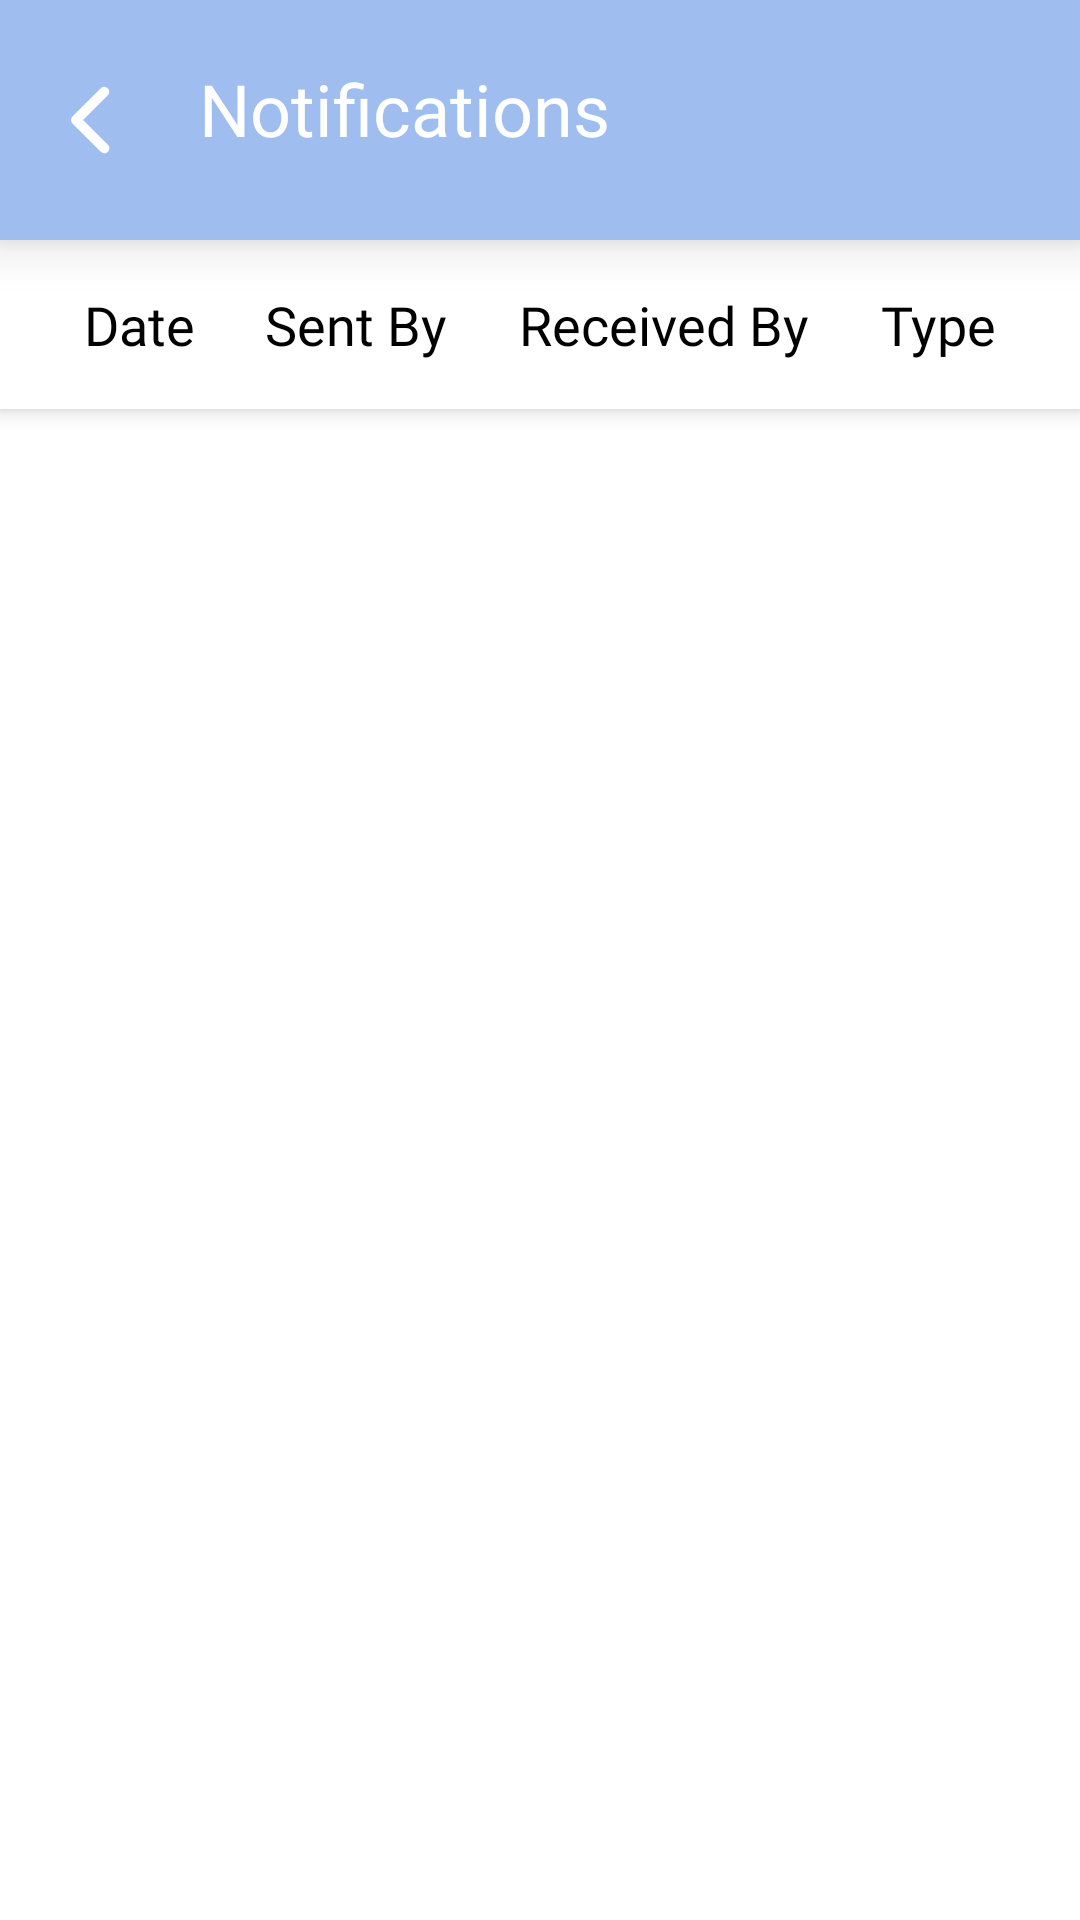

Icon bounding boxes for this 1080 × 1920 phone screenshot, format bbox=(x1, y1, x2, y2):
arrow back: bbox=(71, 87, 110, 153)
